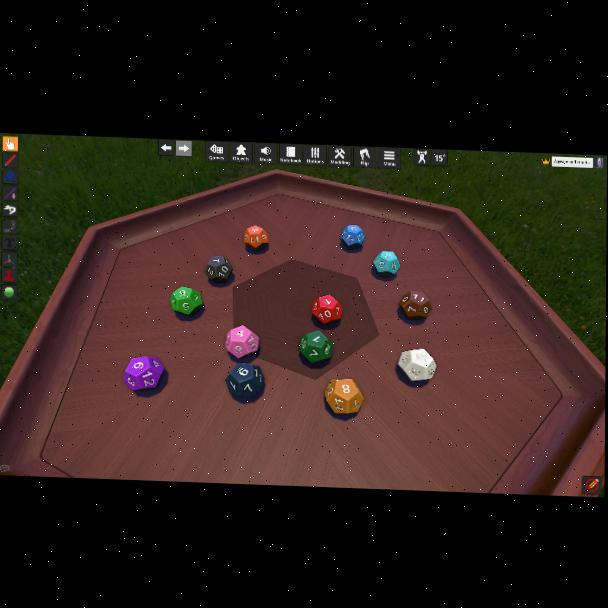d12: (124, 355, 165, 392), (226, 362, 265, 400), (397, 347, 436, 382), (325, 379, 362, 415), (225, 325, 258, 359), (170, 286, 203, 318), (399, 290, 431, 321), (299, 332, 328, 364), (310, 295, 339, 326), (204, 255, 232, 283), (372, 251, 399, 278), (340, 224, 365, 250), (245, 226, 268, 251)
